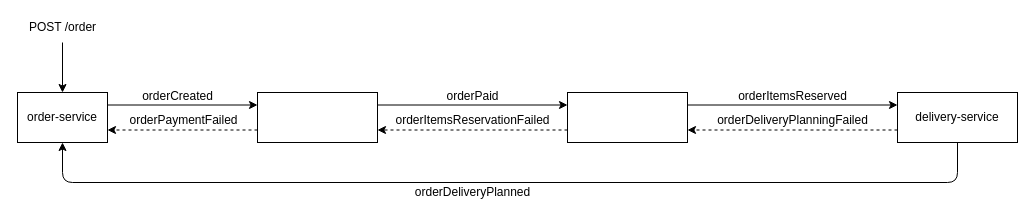
Some shapes in this 1035 by 219 pixel diagram are drawn without their labels. Here are the shapes that lost their labels. From the top down, the centre of each, then its label:
the point at 317,117: payment-service
the point at 627,117: warehouse-service
